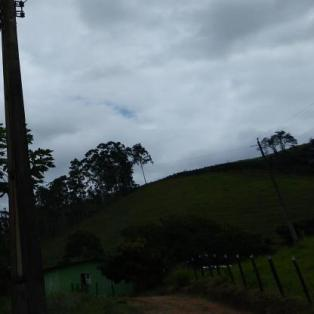Poste: (0, 0, 41, 304)
